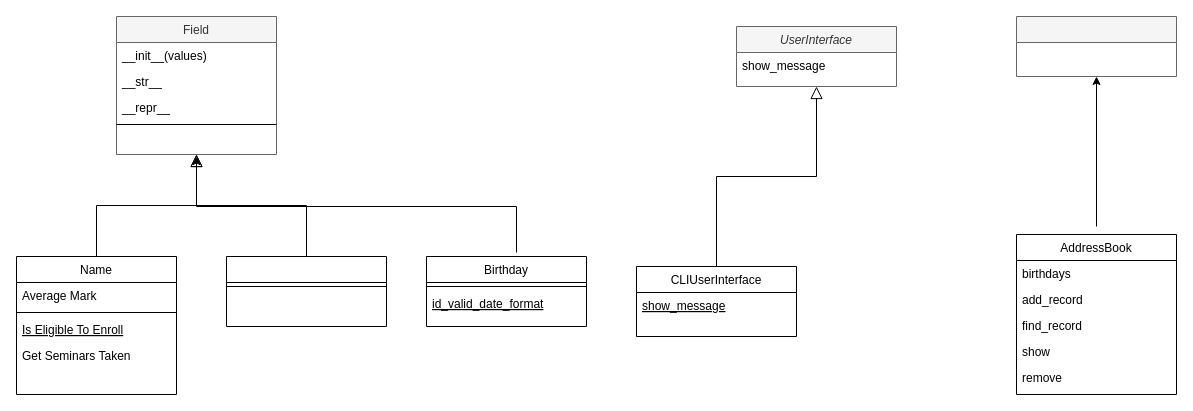
Some shapes in this 1193 by 411 pixel diagram are drawn without their labels. The shapes that lost their labels are listed below. From the top down, each one's centre as x and y in pixels, then its label:
the point at 1096,46: UserDict
the point at 306,291: Phone
